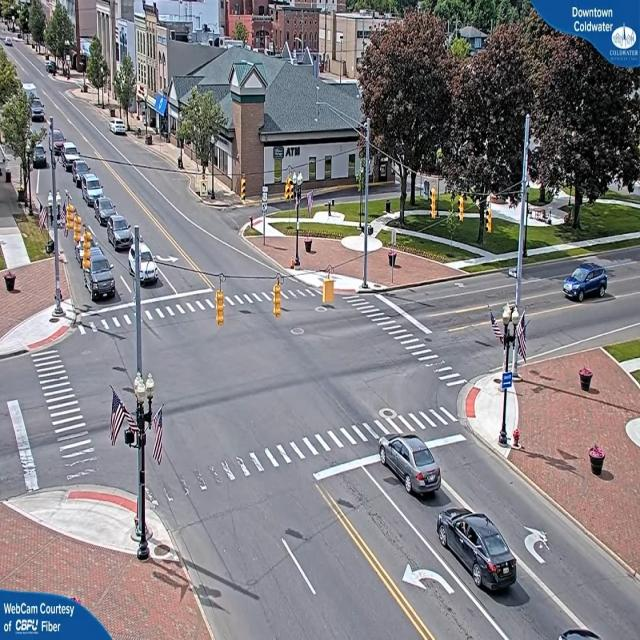car: (436, 509, 519, 595), (378, 434, 442, 500), (562, 263, 610, 301), (85, 247, 118, 297), (107, 216, 135, 250), (95, 198, 118, 222), (110, 121, 128, 136)
